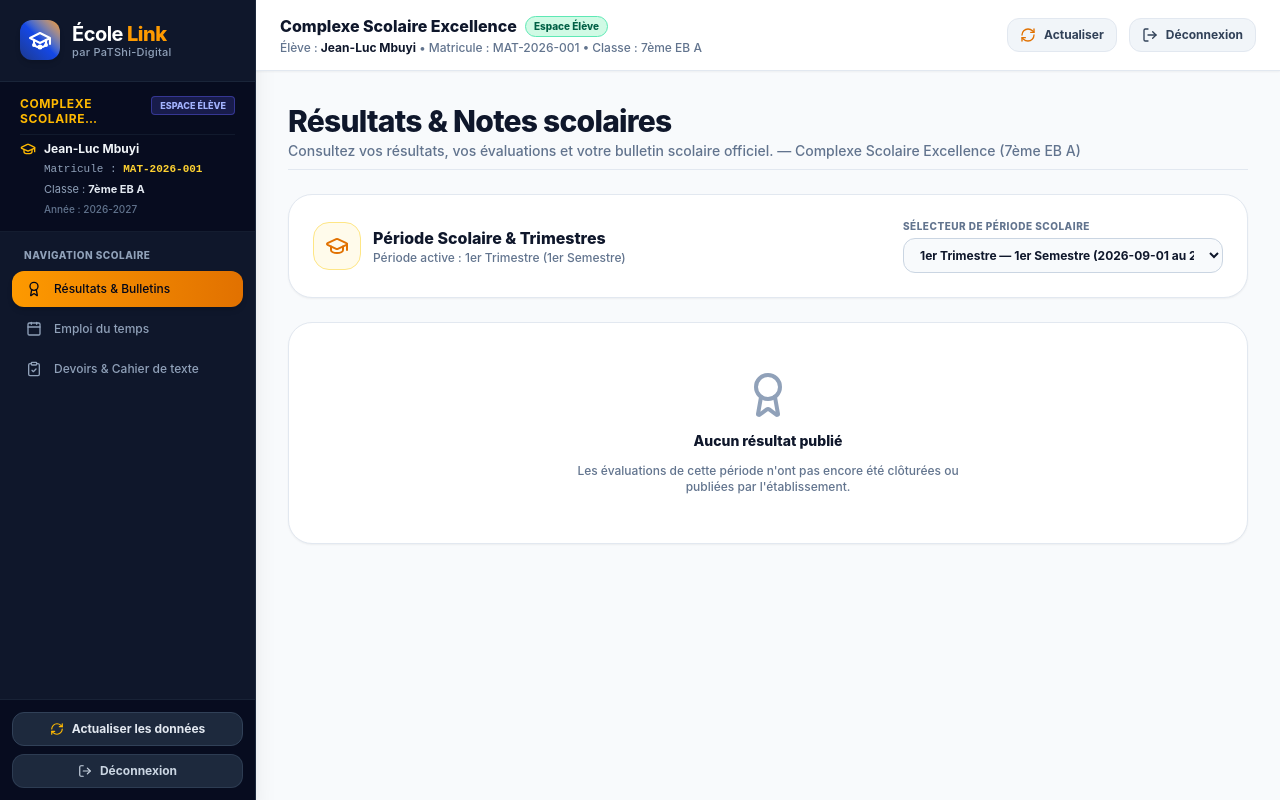
StudentTimetable Frontend Suite — Lot 2K-T6-F › 7. Gère une réponse RPC malformée de façon défensive
Check: the text "Résultats & Bulletins" is shown, box [54,280,170,296]
Click the button "Emploi du temps" at (128, 328), box [12,310,243,346]
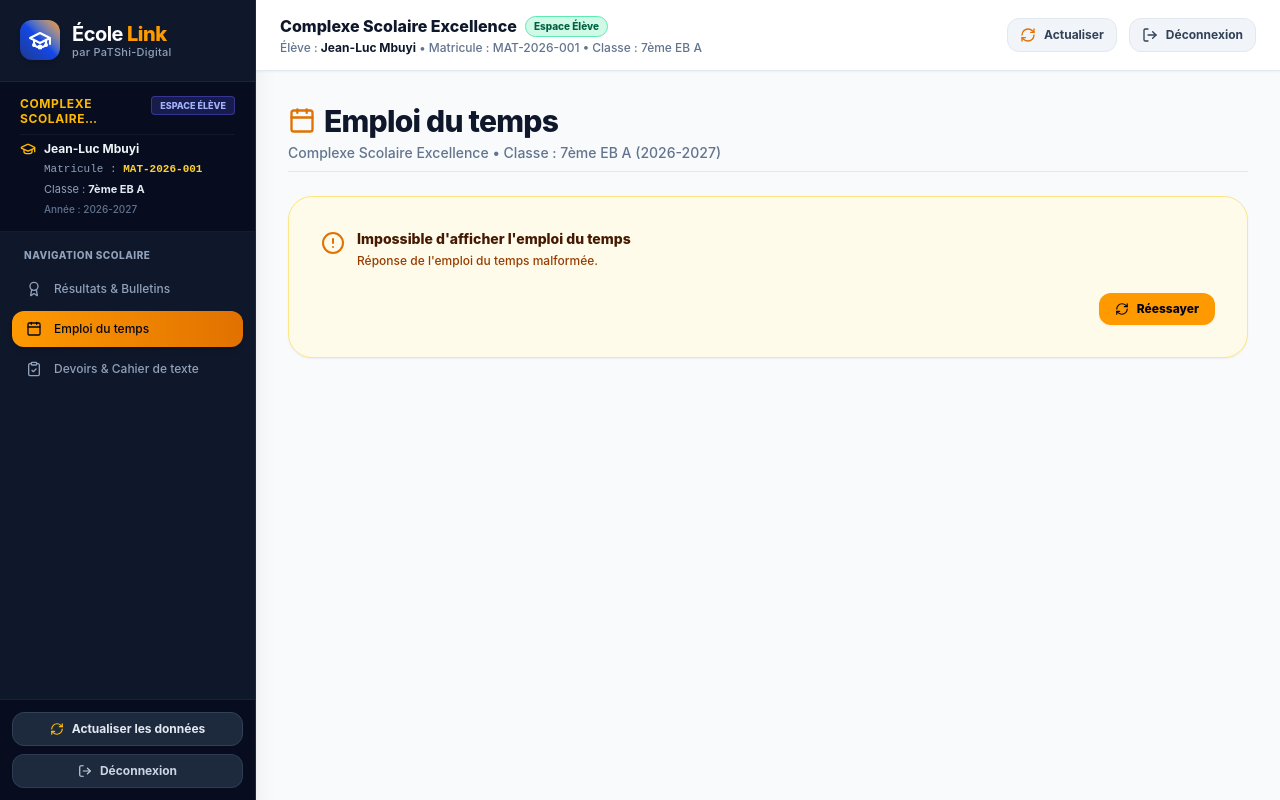
Check: the text "Réponse de l'emploi du temps malformée." is shown, box [357,253,631,269]
